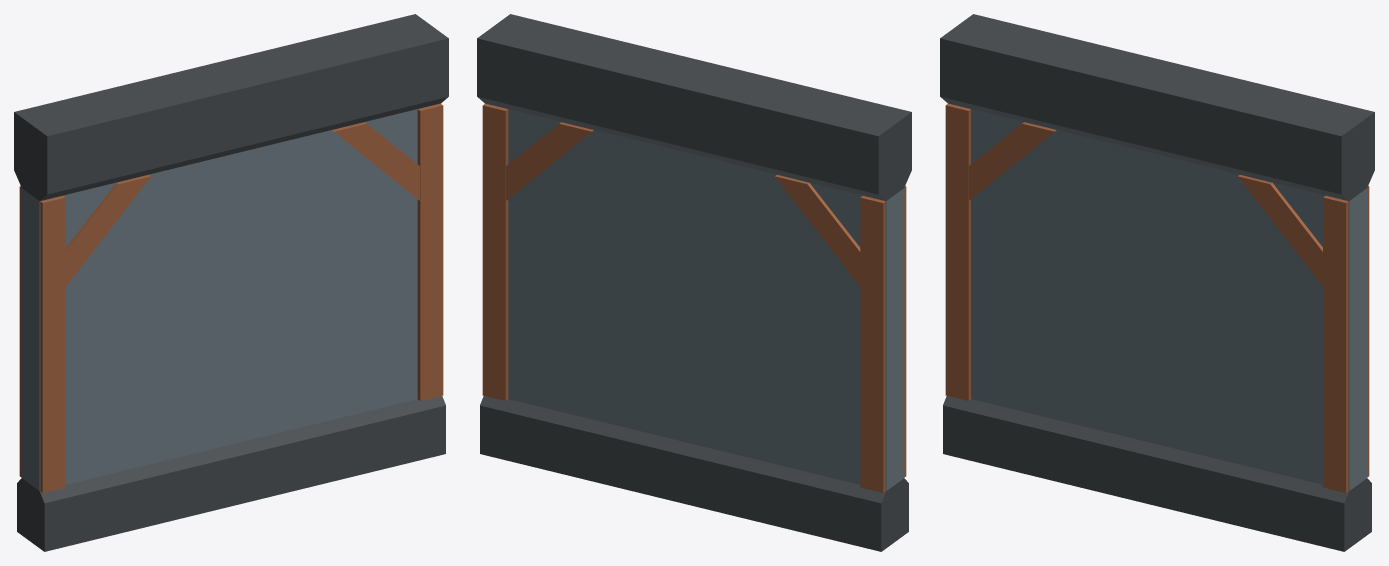
File: wall_2_5.obj
The picture shows the model from 3 angles, left to right: view 1: azimuth 30°, elevation 25°; view 2: azimuth 150°, elevation 25°; view 3: azimuth 330°, elevation 25°; orthographic projection.
Visible parts, largest first — view 1: wall_2_5; view 2: wall_2_5; view 3: wall_2_5.
Part boxes in pixels (x1,y1,x2,y2): wall_2_5: (14, 14, 448, 551); wall_2_5: (477, 14, 911, 551); wall_2_5: (940, 14, 1374, 551).
Size of the model in its own units: 1.54 by 1.53 by 0.2209.
